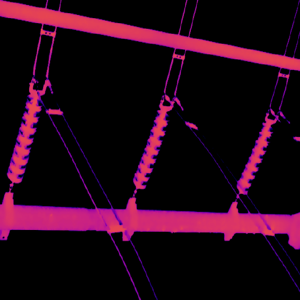insulator: (6, 93, 42, 183), (132, 105, 169, 190), (235, 118, 275, 196)
